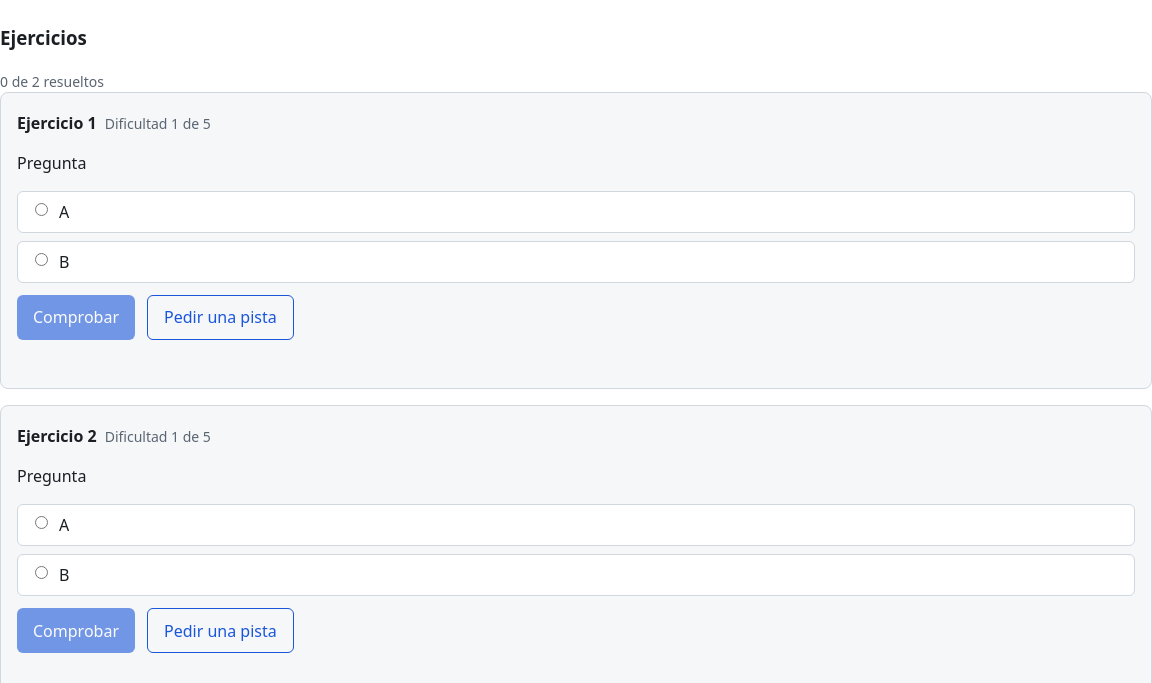
ExerciseList › updates the counter when an exercise is solved
Click the radio button labelled "A" below "Ejercicio 1" at point(42, 209), box [35,203,48,216]
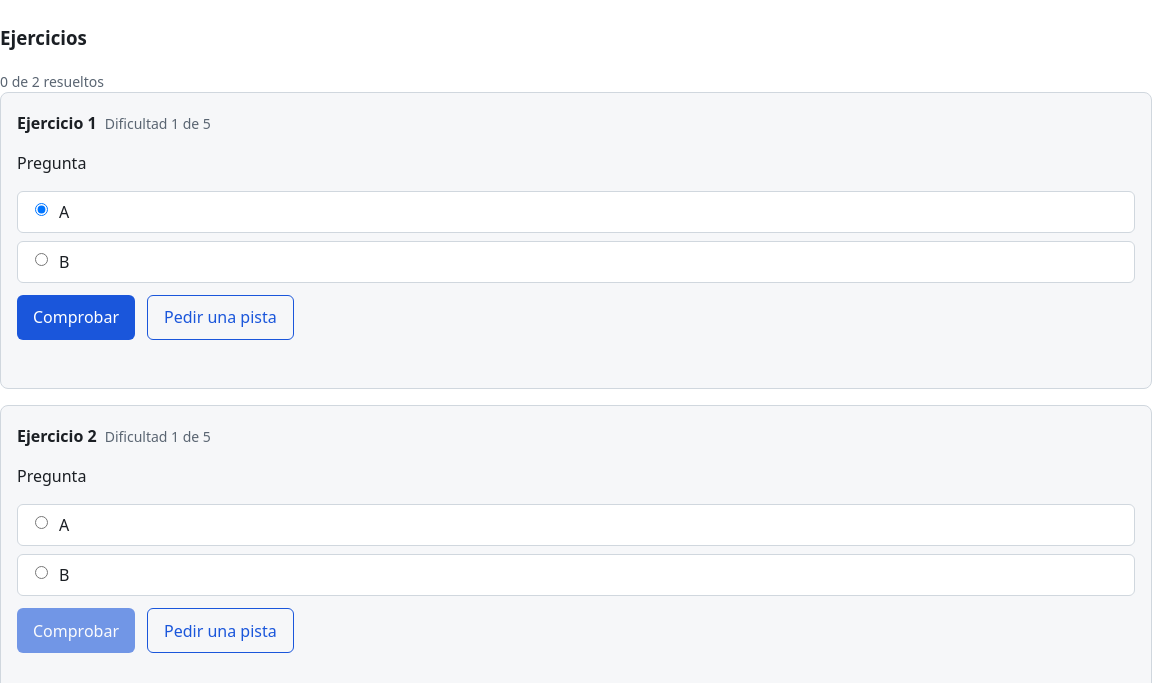
Click the button "Comprobar" below "Ejercicio 1" at point(76, 317), box [17,295,135,340]
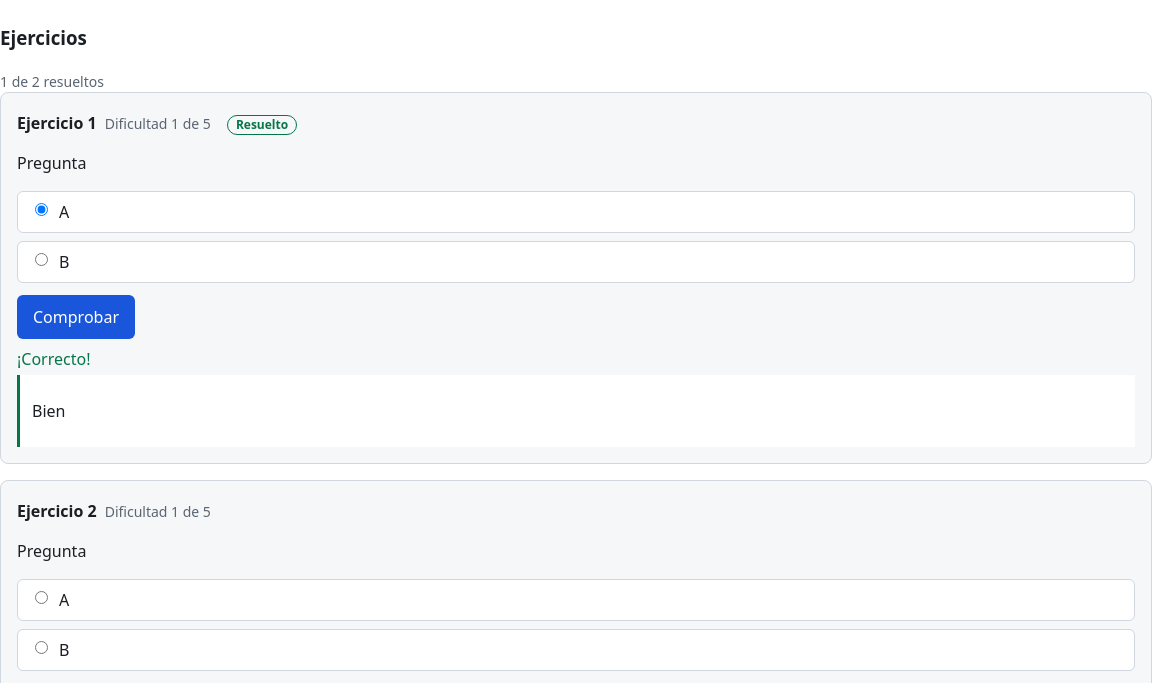
Result: the text "1 de 2 resueltos" is shown at [0,72,104,91]
